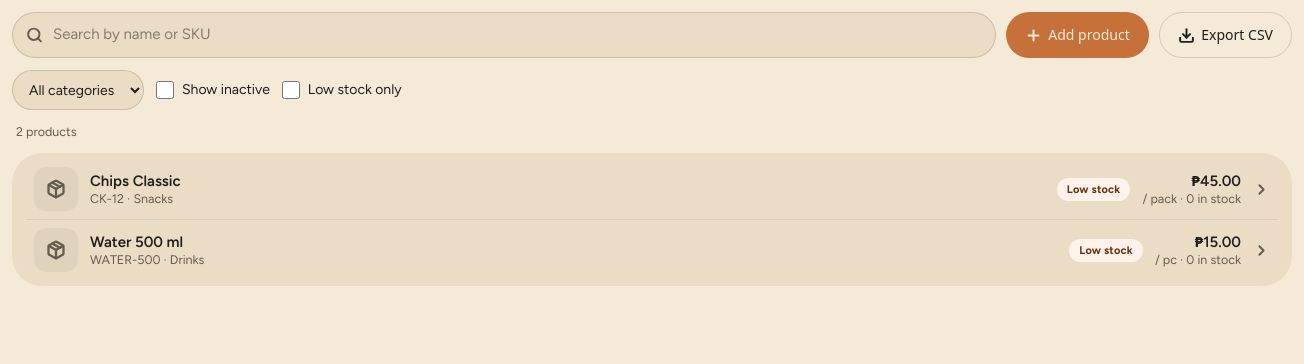
Test: Products list › shows active products with price per unit; inactive ones only on request
expect the text "Chips Classic" is shown: met, box [90, 172, 181, 190]
expect the text "₱45.00" is shown: met, box [1192, 172, 1241, 190]
Click the checkbox labelled "Show inactive": x=165, y=90 [156, 81, 174, 99]
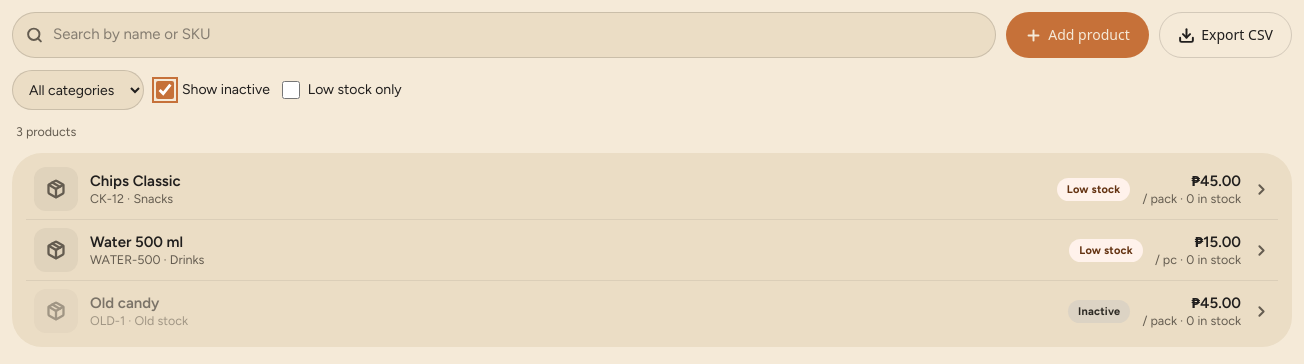
expect the text "Old candy" is shown: met, box [90, 294, 160, 312]
